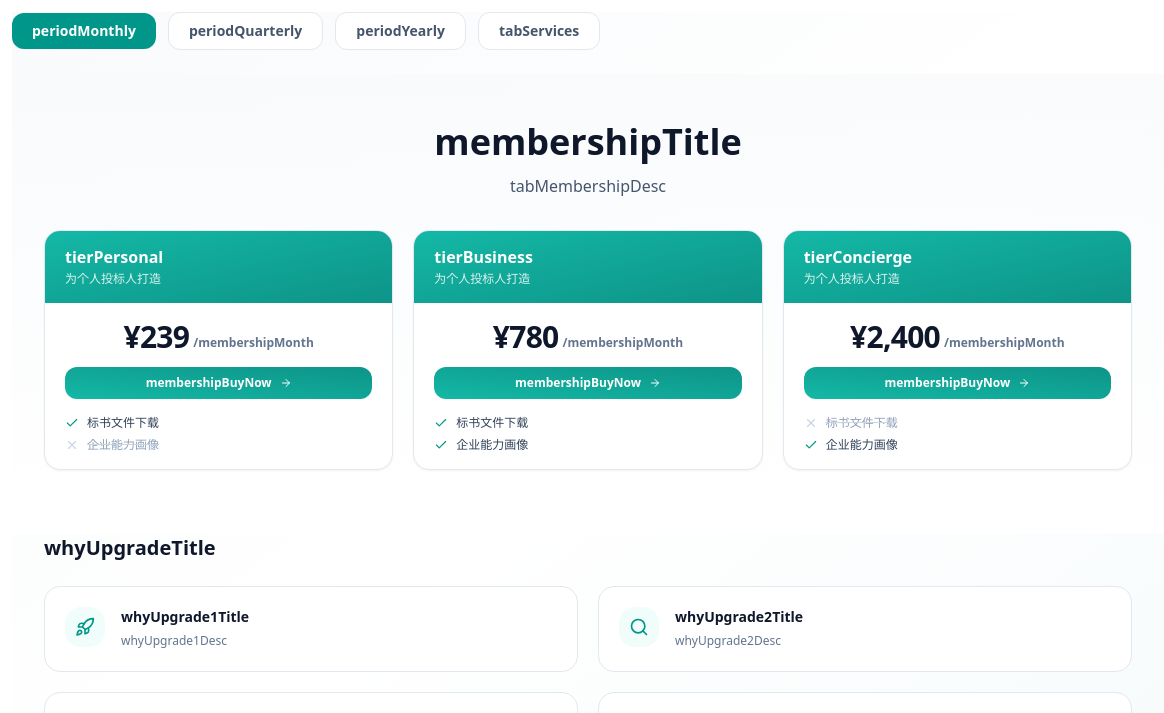
Test: MembershipPage 定价区（周期 Tab × 三档卡） › 增值服务是独立 Tab：切过去后套餐卡消失，切回月付恢复
What coordinates should you click on to do the following:
click the tab with test id "services-tab"
I would click on:
 (539, 31)
Its box is x1=478 y1=12 x2=600 y2=50.
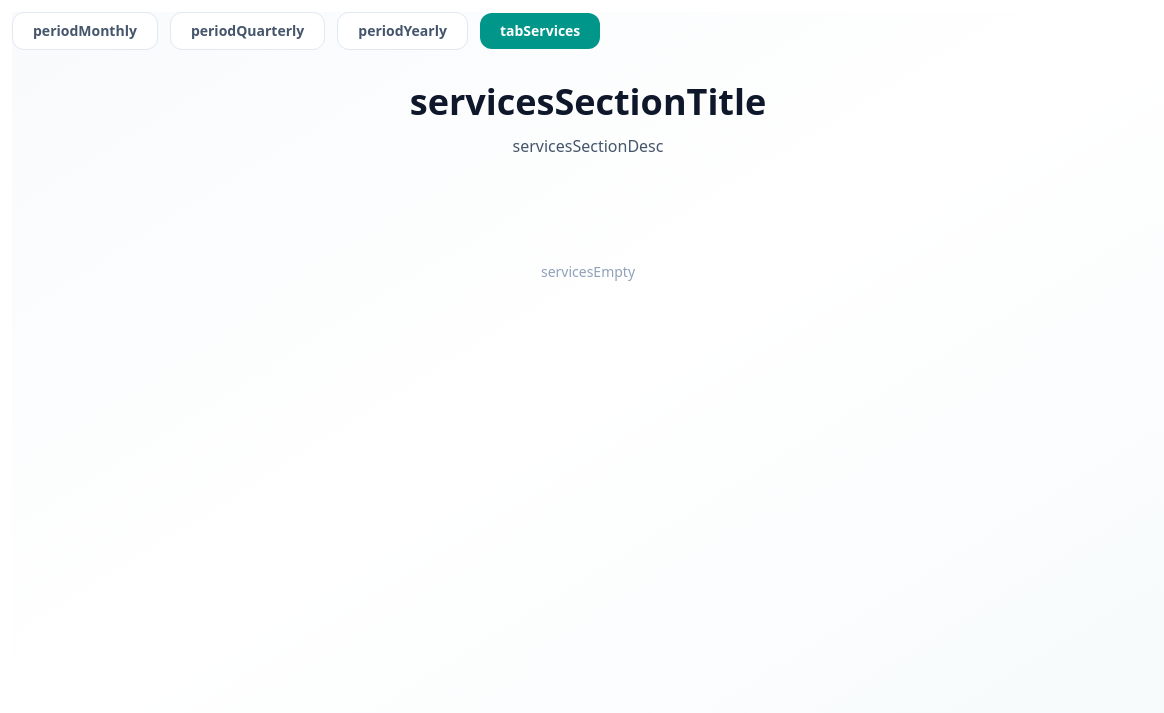
Expected: the element with test id "plan-list" is gone
Expected: the text "servicesEmpty" is shown, x1=541 y1=262 x2=635 y2=281
What coordinates should you click on to do the following:
click the tab with test id "period-tab"
I would click on:
 (85, 31)
Its box is x1=12 y1=12 x2=158 y2=50.
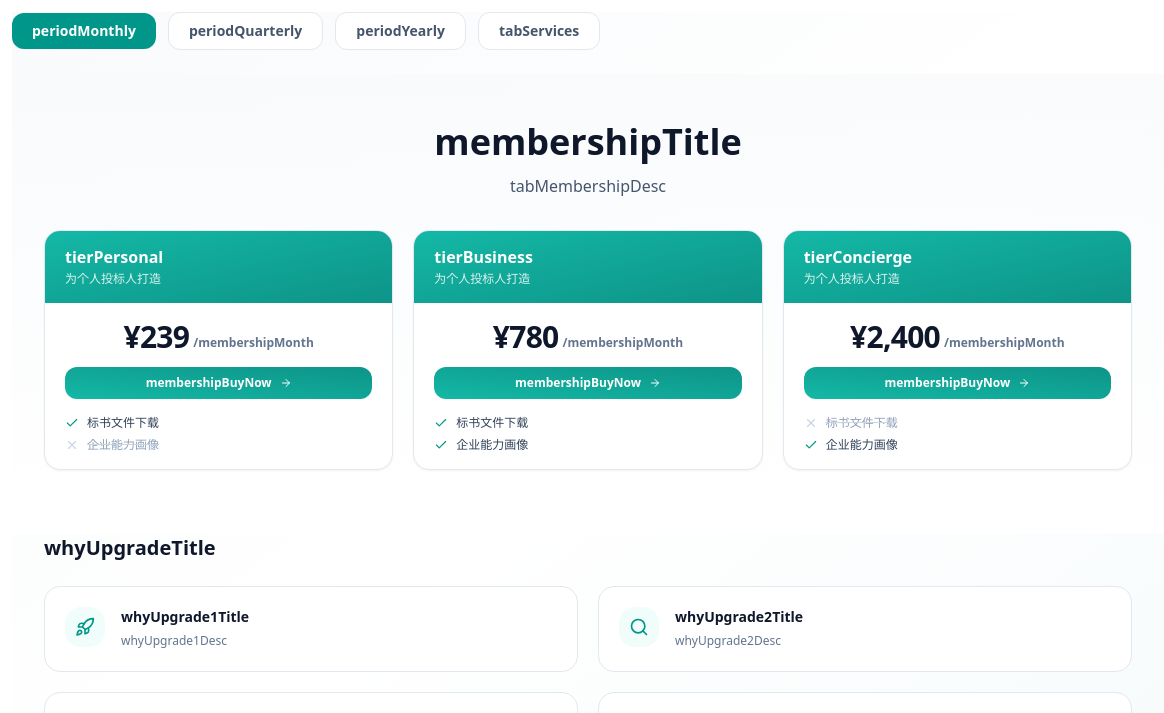
Expected: the element with test id "plan-list" is shown, x1=44 y1=230 x2=1132 y2=470
